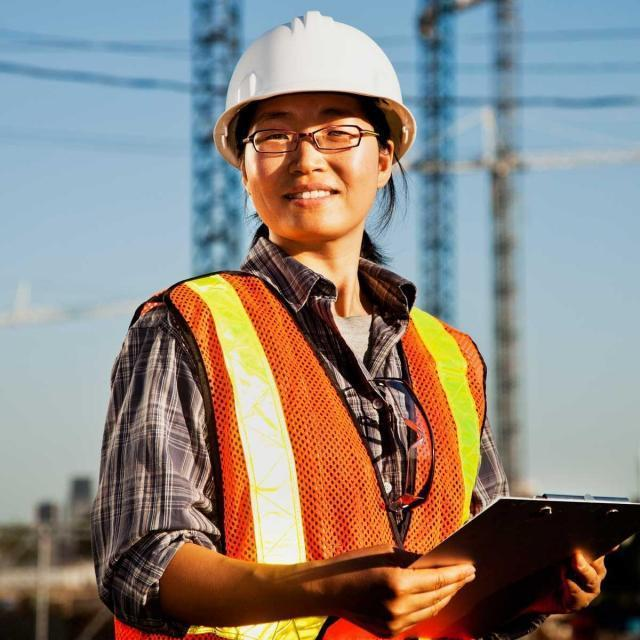helmet: (187, 0, 456, 122)
safety_vest: (159, 270, 514, 552)
